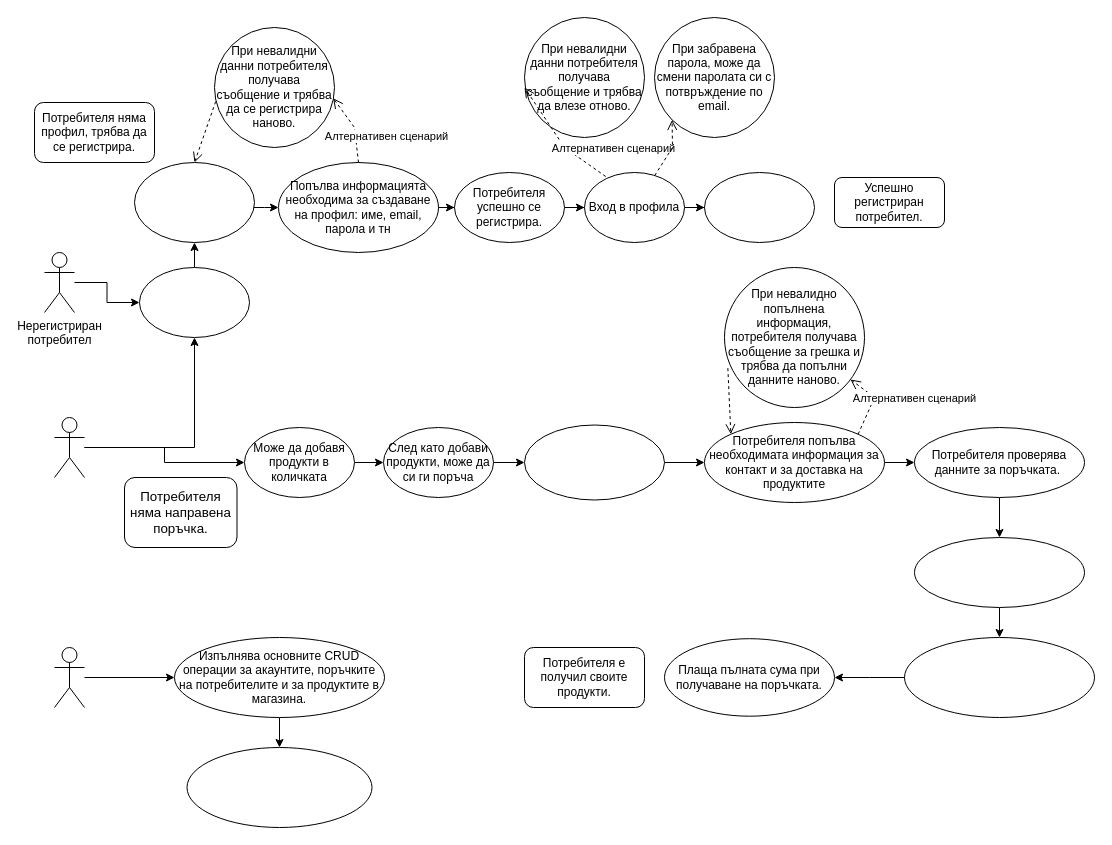
This 1112x845 diagram has some shape labels left out. The centre of each missing label's shape, as x and y in pixels:
Администратор: (x=69, y=677)
Поръчката се записва в базата данни на системата и се изпраща за изпълняване.: (x=999, y=677)
Потребителя е влязъл в акаунта си.: (x=759, y=207)
Потребителя потвърждава поръчката.: (x=999, y=572)
Разглежда и одобрява или отхвърля поръчки на клиентите.: (x=279, y=787)
Разглеждане на цените и продуктите: (x=194, y=302)
Регистрация / Създаване на профил: (x=194, y=202)
Регистриран потребител: (x=69, y=447)
Системата пресмята крайната цена на поръчката.: (x=594, y=462)
